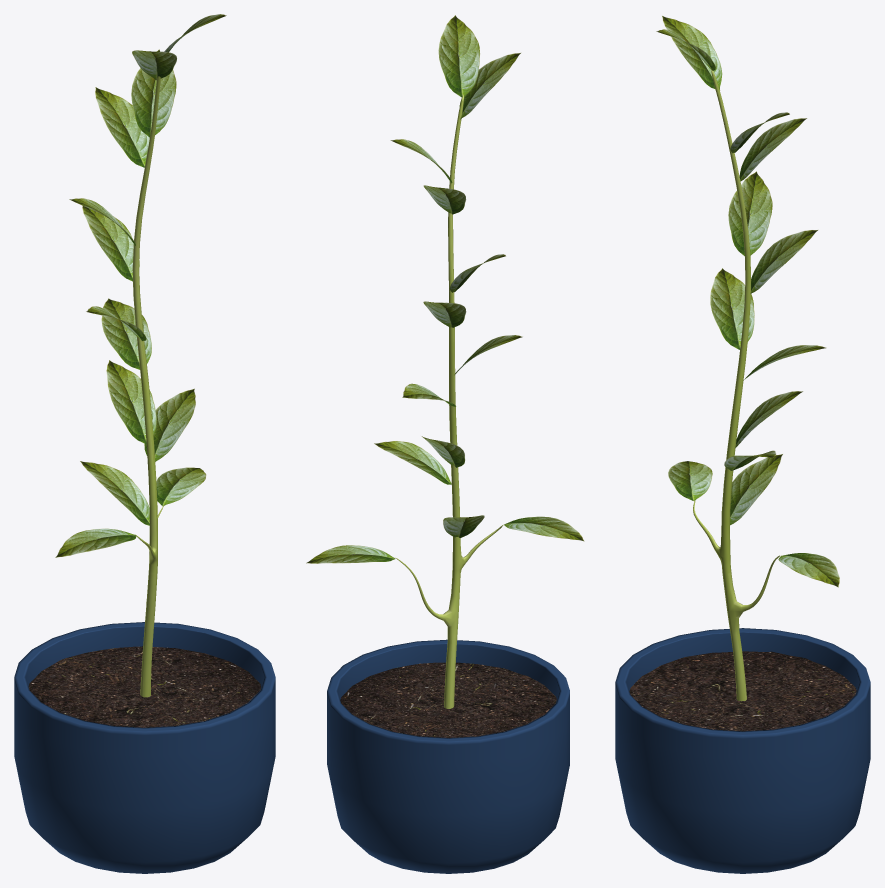
The model's file is zz-plant.glb.
3 renders of one model, left to right at view 1: azimuth 30°, elevation 25°; view 2: azimuth 150°, elevation 25°; view 3: azimuth 270°, elevation 25°, orthographic. The views are drawn at different scales.
Visible parts, largest first — view 1: Object_2, Object_5, Object_3, Object_4; view 2: Object_2, Object_3, Object_5, Object_4; view 3: Object_2, Object_5, Object_3, Object_4.
Boxes of the visible parts, left/top/right/bottom form: Object_2: left=14, top=622, right=275, bottom=873; Object_5: left=55, top=14, right=226, bottom=557; Object_3: left=28, top=646, right=261, bottom=727; Object_4: left=132, top=76, right=163, bottom=697; Object_2: left=327, top=639, right=569, bottom=873; Object_3: left=340, top=662, right=556, bottom=737; Object_5: left=306, top=15, right=584, bottom=563; Object_4: left=396, top=95, right=502, bottom=708; Object_2: left=615, top=628, right=870, bottom=873; Object_5: left=656, top=16, right=839, bottom=587; Object_3: left=629, top=651, right=856, bottom=731; Object_4: left=693, top=70, right=779, bottom=701.
Size of the model in its own units: 24.65 by 85.4 by 24.
Materials: 4 (3 with a texture image).
